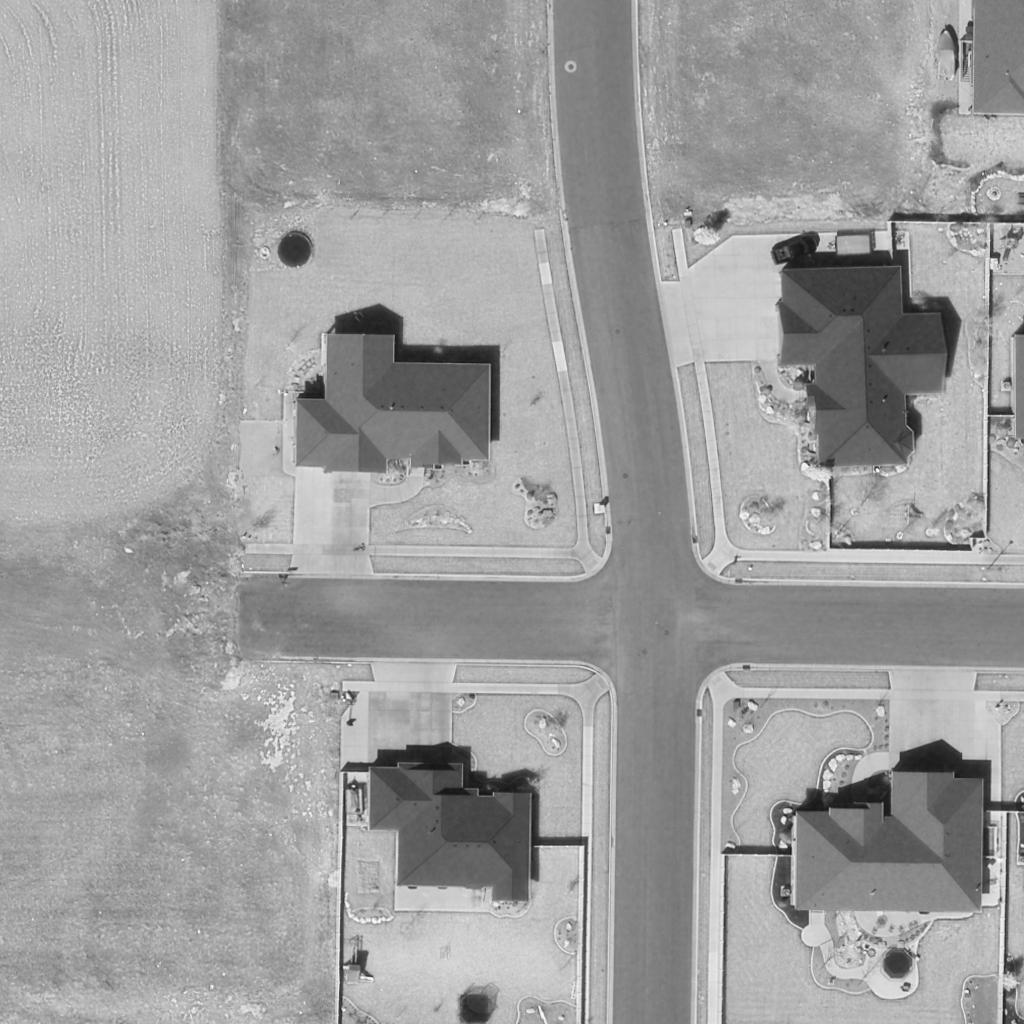vehicle: (772, 233, 818, 265), (937, 31, 957, 79)
